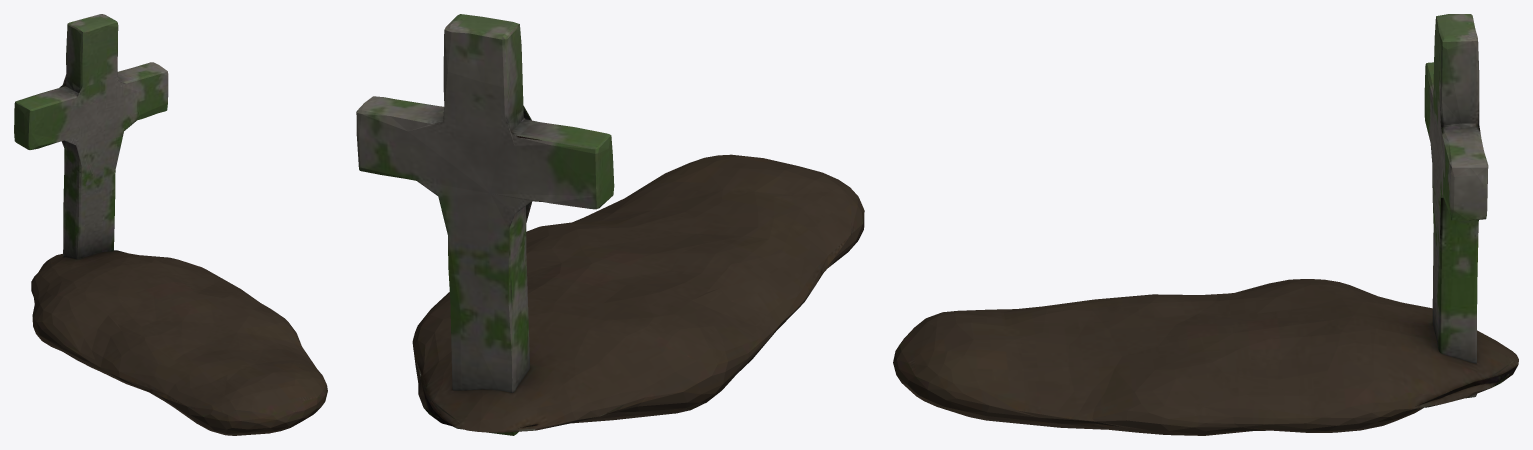
The model's file is vespera_lapide_b.glb.
3 renders of one model, left to right at view 1: azimuth 30°, elevation 25°; view 2: azimuth 150°, elevation 25°; view 3: azimuth 270°, elevation 25°, orthographic. The views are drawn at different scales.
Visible parts, largest first — view 1: vespera_lapide_b_tronco; view 2: vespera_lapide_b_tronco; view 3: vespera_lapide_b_tronco.
Part boxes in pixels (left/top/right/bottom): vespera_lapide_b_tronco: left=14, top=14, right=327, bottom=435; vespera_lapide_b_tronco: left=356, top=14, right=864, bottom=435; vespera_lapide_b_tronco: left=893, top=14, right=1518, bottom=435.
Size of the model in its own units: 0.7759 by 1.07 by 1.56.
1 material, 1 textured.
